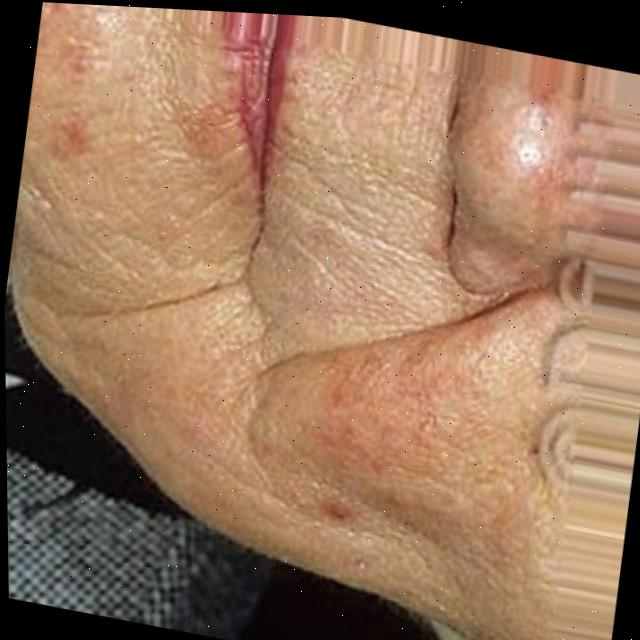Rosacea: (315, 349, 499, 539)
